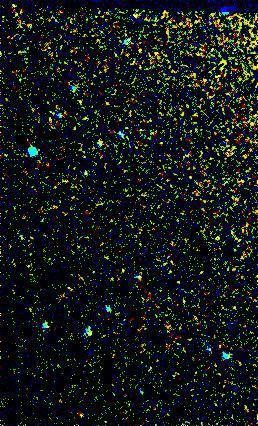star: (76, 317, 106, 347)
